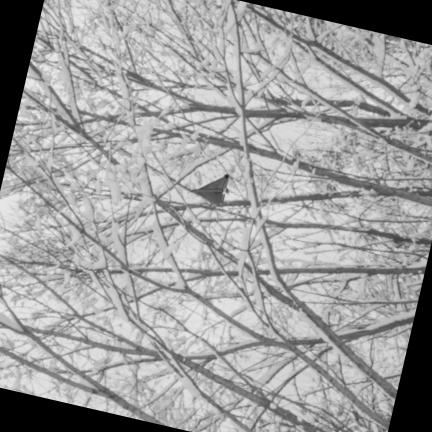Shahed: (192, 174, 228, 204)
